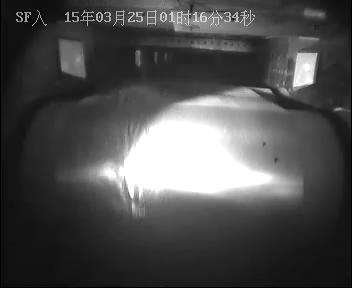wrinkled steel: (108, 117, 156, 219)
